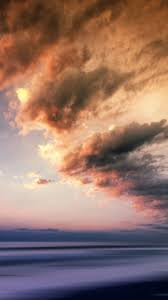sea: (4, 230, 168, 299)
sky: (2, 2, 164, 236)
